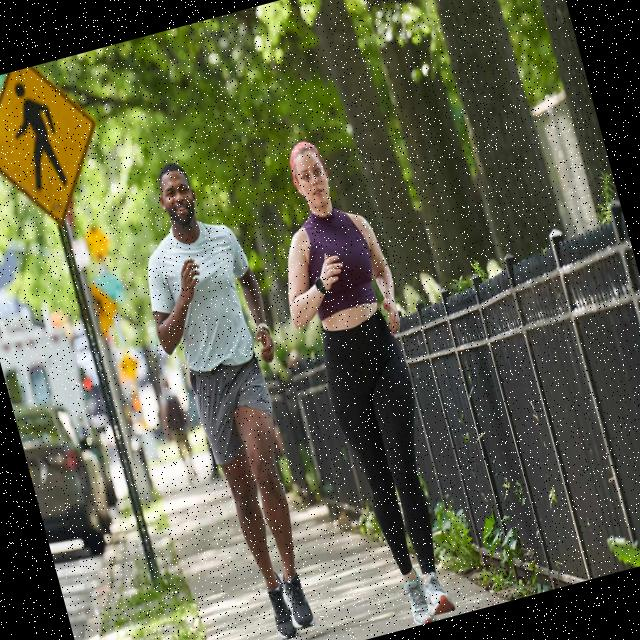Person: (248, 126, 482, 636), (114, 150, 349, 640)
